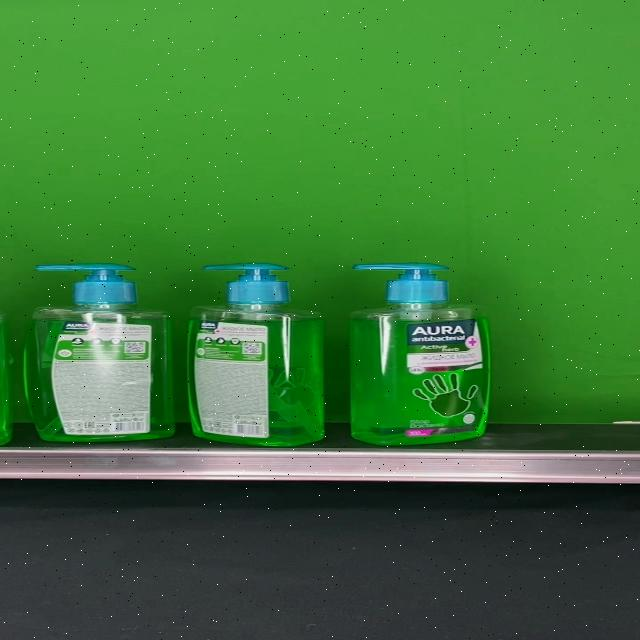Bottle: (24, 263, 174, 442), (350, 262, 491, 445), (187, 263, 325, 446)
Cap: (35, 263, 136, 304), (353, 262, 449, 304), (201, 263, 289, 305)
